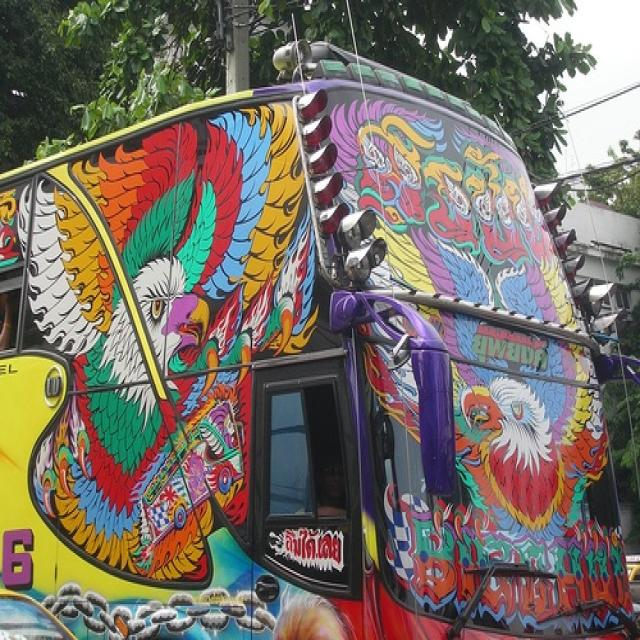bus: (4, 38, 636, 636)
